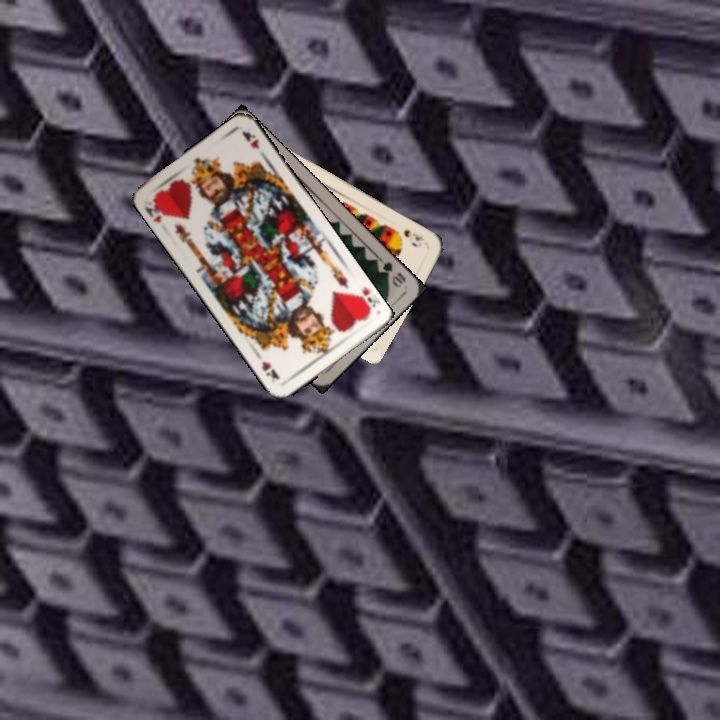G10: (373, 255, 409, 290)
HK: (349, 287, 381, 317), (141, 194, 170, 226)
S10: (399, 225, 427, 244)
